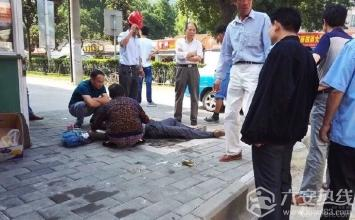fall: (136, 109, 225, 142)
